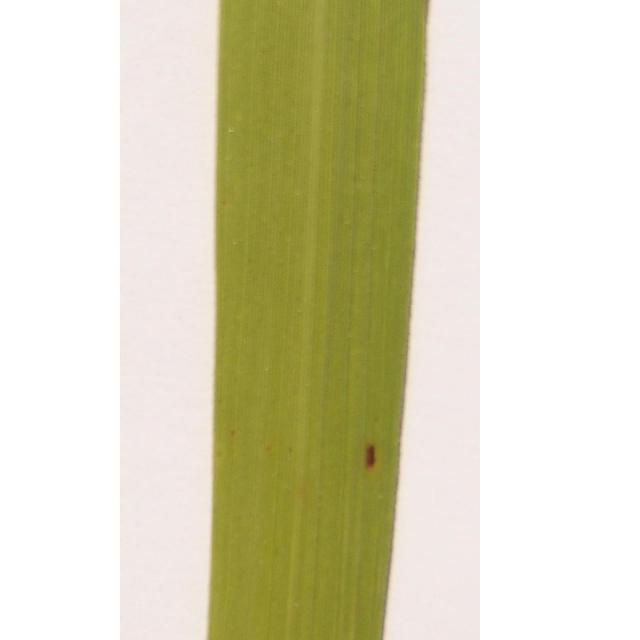Brown spot: (360, 436, 380, 474)
